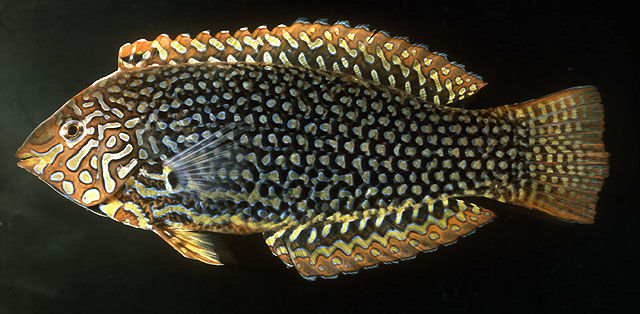fish: (15, 16, 609, 279)
